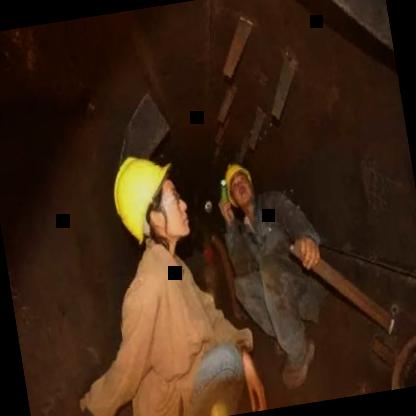helmet: (102, 138, 196, 265), (218, 156, 258, 220)
